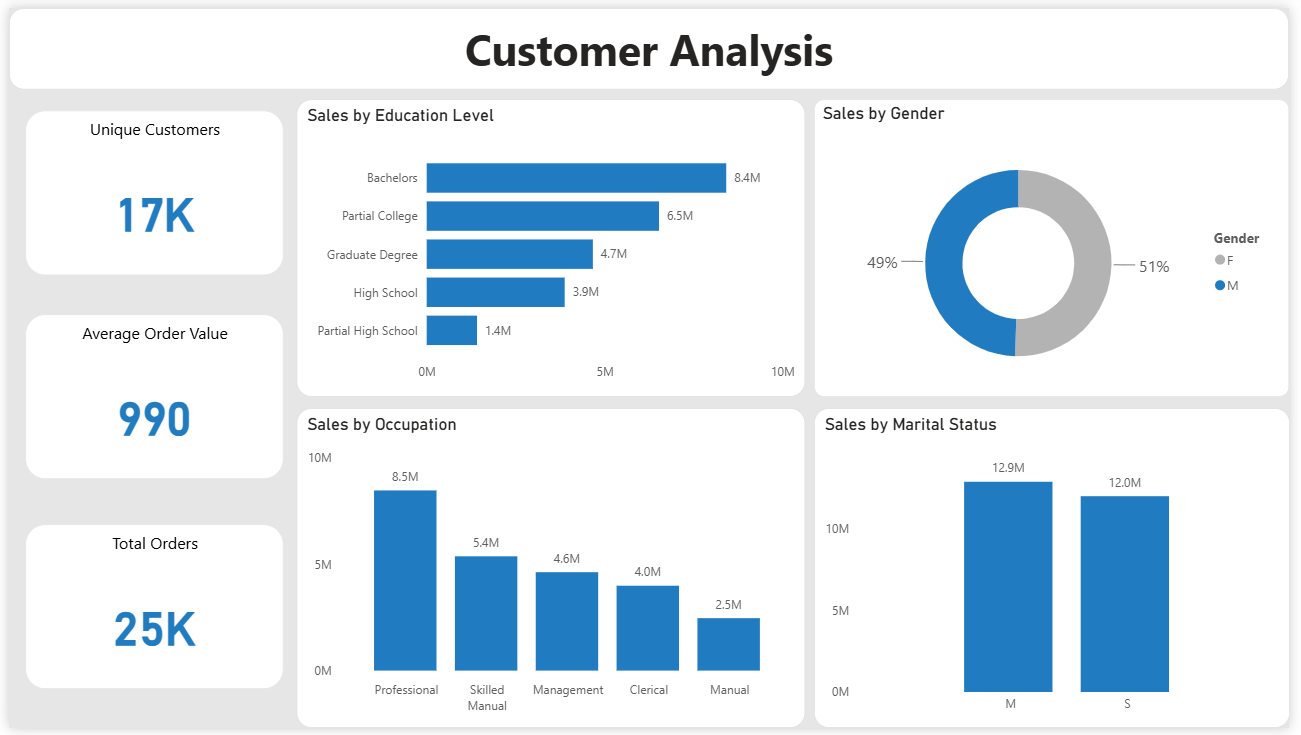

Layout of this report page (visuals, bound fields, positions):
{"tool":"powerbi","page":{"name":"Customer Analysis","canvas":[1280,720],"ordinal":2},"visuals":[{"type":"card","title":"Unique Customers","fields":{"Values":["Sales.Unique Customers"]},"box":[15.9,124.7,258,165.1],"z":0},{"type":"card","title":"Total Orders","fields":{"Values":["Sales.Total Orders"]},"box":[15.9,528.3,258,174.9],"z":1000},{"type":"card","title":"Average Order Value","fields":{"Values":["Sales.Average Order Value"]},"box":[15.9,331.4,253.1,157.7],"z":2000},{"type":"donutChart","title":"Sales by Gender","fields":{"Category":["Customer Lookup.Gender"],"Y":["Sales.Total Sales"]},"box":[804.6,105.2,475.7,283.7],"z":3000},{"type":"clusteredBarChart","title":"Sales by Education Level","fields":{"Y":["Sales.Total Sales"],"Category":["Customer Lookup.EducationLevel"]},"box":[300.8,105.2,486.7,283.7],"z":4000},{"type":"clusteredColumnChart","title":"Sales by Occupation","fields":{"Category":["Customer Lookup.Occupation"],"Y":["Sales.Total Sales"]},"box":[300.8,399.9,486.7,320.4],"z":5000},{"type":"columnChart","title":"Sales by Marital Status","fields":{"Y":["Sales.Total Sales"],"Category":["Customer Lookup.MaritalStatus"]},"box":[804.6,399.9,475.7,320.4],"z":6000},{"type":"textbox","box":[0,11,1280.3,81.9],"z":7000}]}

Visuals, with their boxes in screenshot pixels (x1, y1, x2, y2), scaled from the page's 1280x720 canvas onto the 1301x735 screenshot:
"Unique Customers" card: (16, 127, 278, 296)
"Total Orders" card: (16, 539, 278, 718)
"Average Order Value" card: (16, 338, 273, 499)
"Sales by Gender" donutChart: (818, 107, 1300, 397)
"Sales by Education Level" clusteredBarChart: (306, 107, 800, 397)
"Sales by Occupation" clusteredColumnChart: (306, 408, 800, 734)
"Sales by Marital Status" columnChart: (818, 408, 1300, 734)
textbox: (0, 11, 1300, 95)
